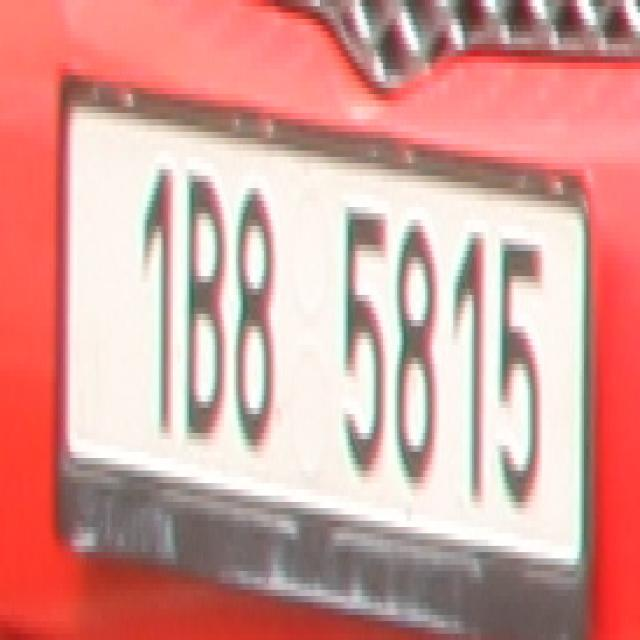1: (446, 213, 491, 502), (136, 151, 175, 433)
5: (341, 195, 388, 483), (498, 220, 544, 514)
8: (390, 207, 439, 502), (231, 182, 276, 458)
B: (180, 163, 229, 439)
